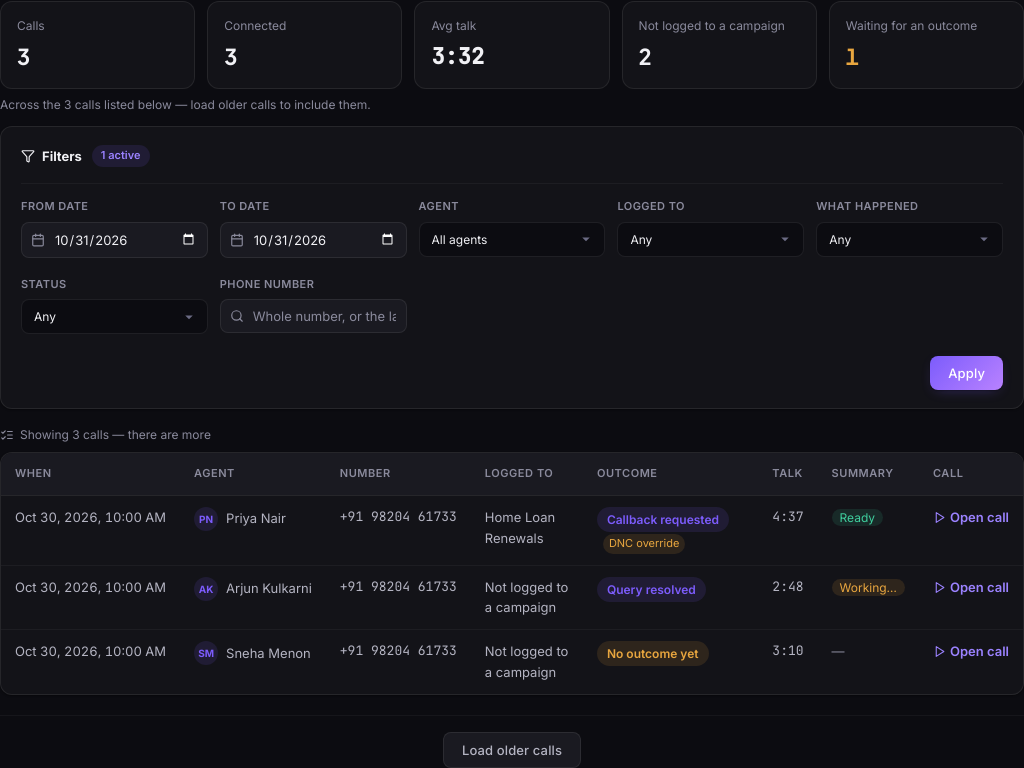
Scenario: Soft-phone calls (the account list) › pages with the keyset cursor and appends
(page scrolled)
Click the button with test id "softphone-load-more": (512, 750) [443,732,581,767]
(page scrolled)
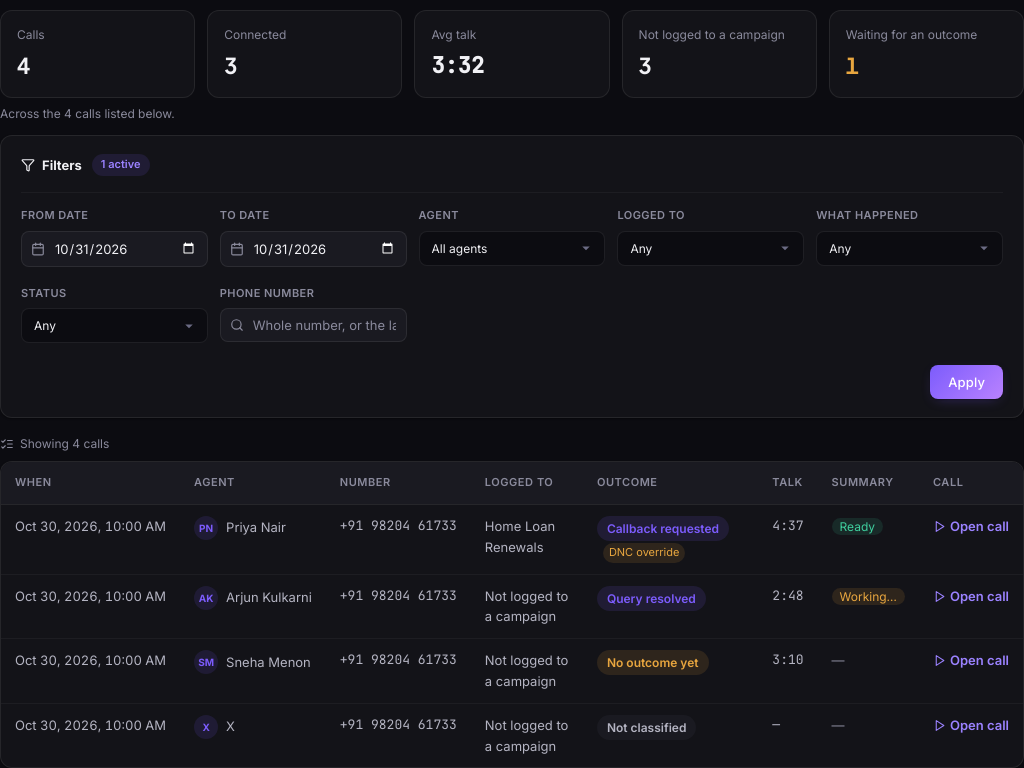
Expected: the row with test id "softphone-row-mc-tag" is shown, [1,505,1023,574]
Now the row with test id "softphone-row-mc-older" is shown, box [1,703,1023,767]
Now the button with test id "softphone-load-more" is gone
